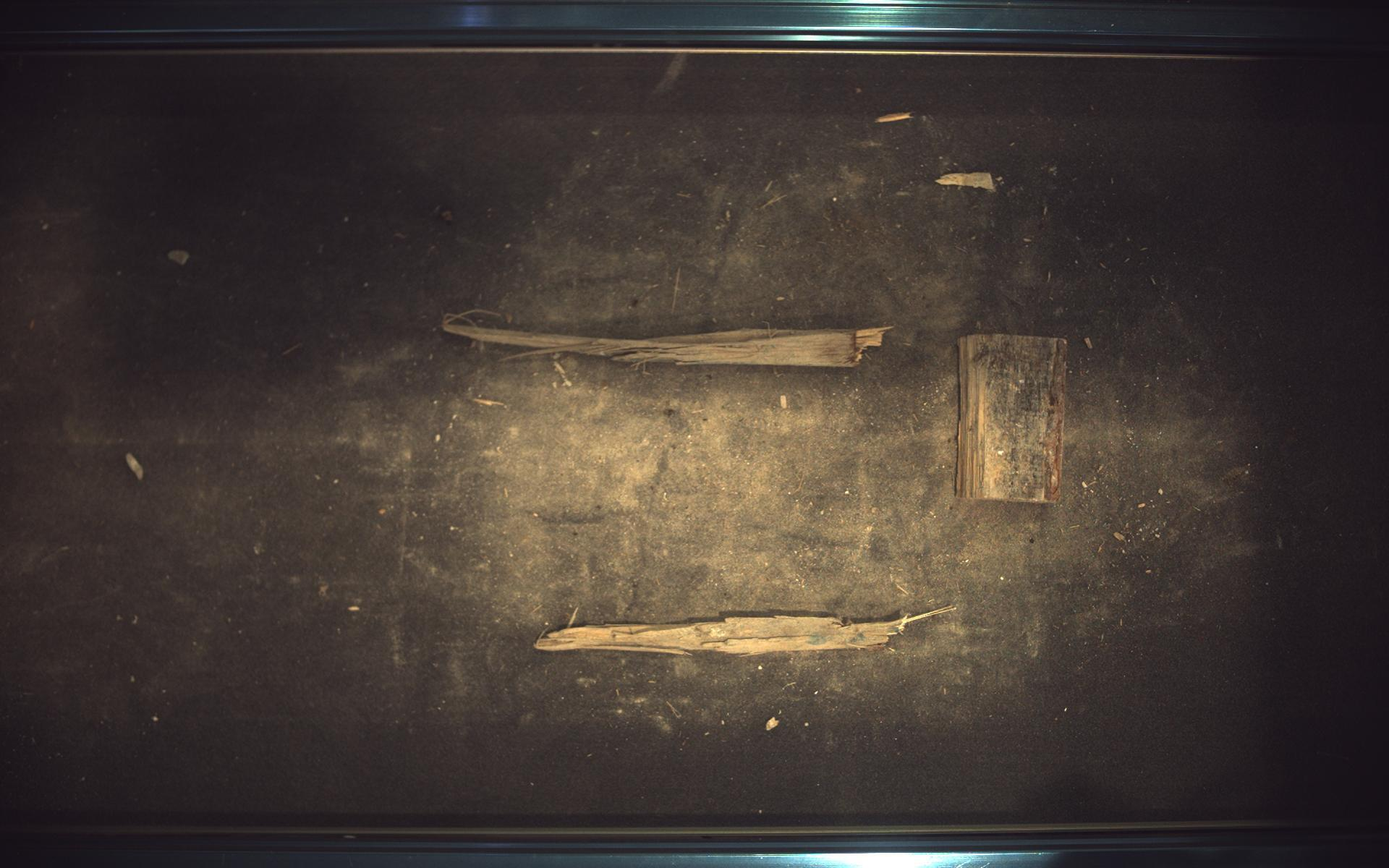wood: (959, 333, 1069, 503)
